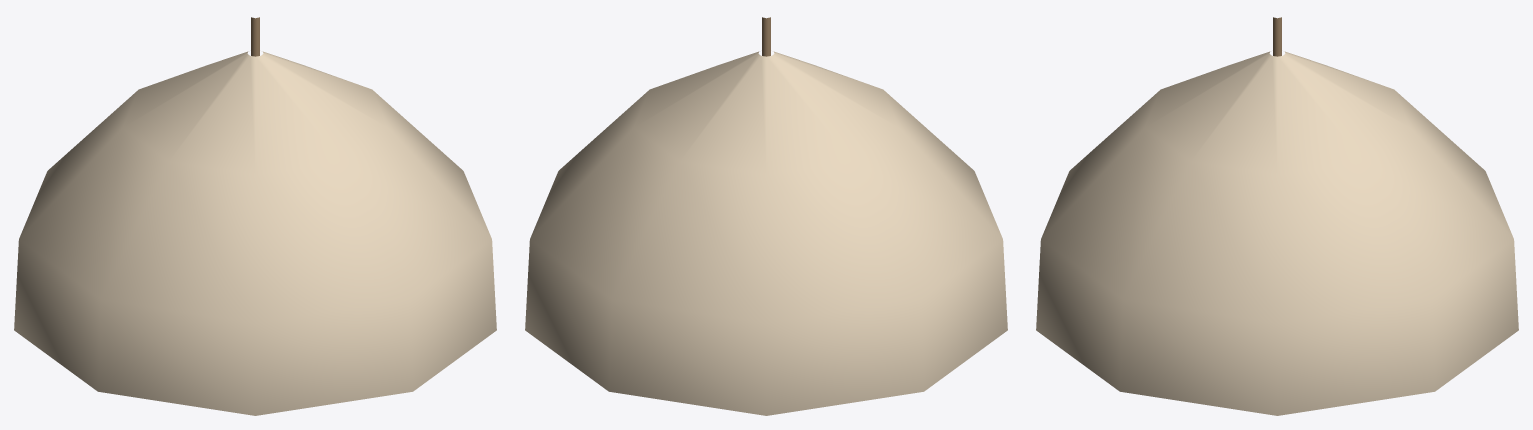
The model's file is Tent.glb.
The picture shows the model from 3 angles, left to right: view 1: azimuth 30°, elevation 25°; view 2: azimuth 150°, elevation 25°; view 3: azimuth 270°, elevation 25°; orthographic projection.
Parts seen in each view (by area): view 1: Tent; view 2: Tent; view 3: Tent.
Part boxes in pixels (x1,y1,x2,y2): Tent: [14, 17, 496, 415]; Tent: [525, 17, 1007, 415]; Tent: [1036, 17, 1518, 415].
Bounding box in the file's own units: 4.66 × 3.2 × 4.73.
